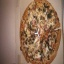pizza: (19, 1, 64, 64)
